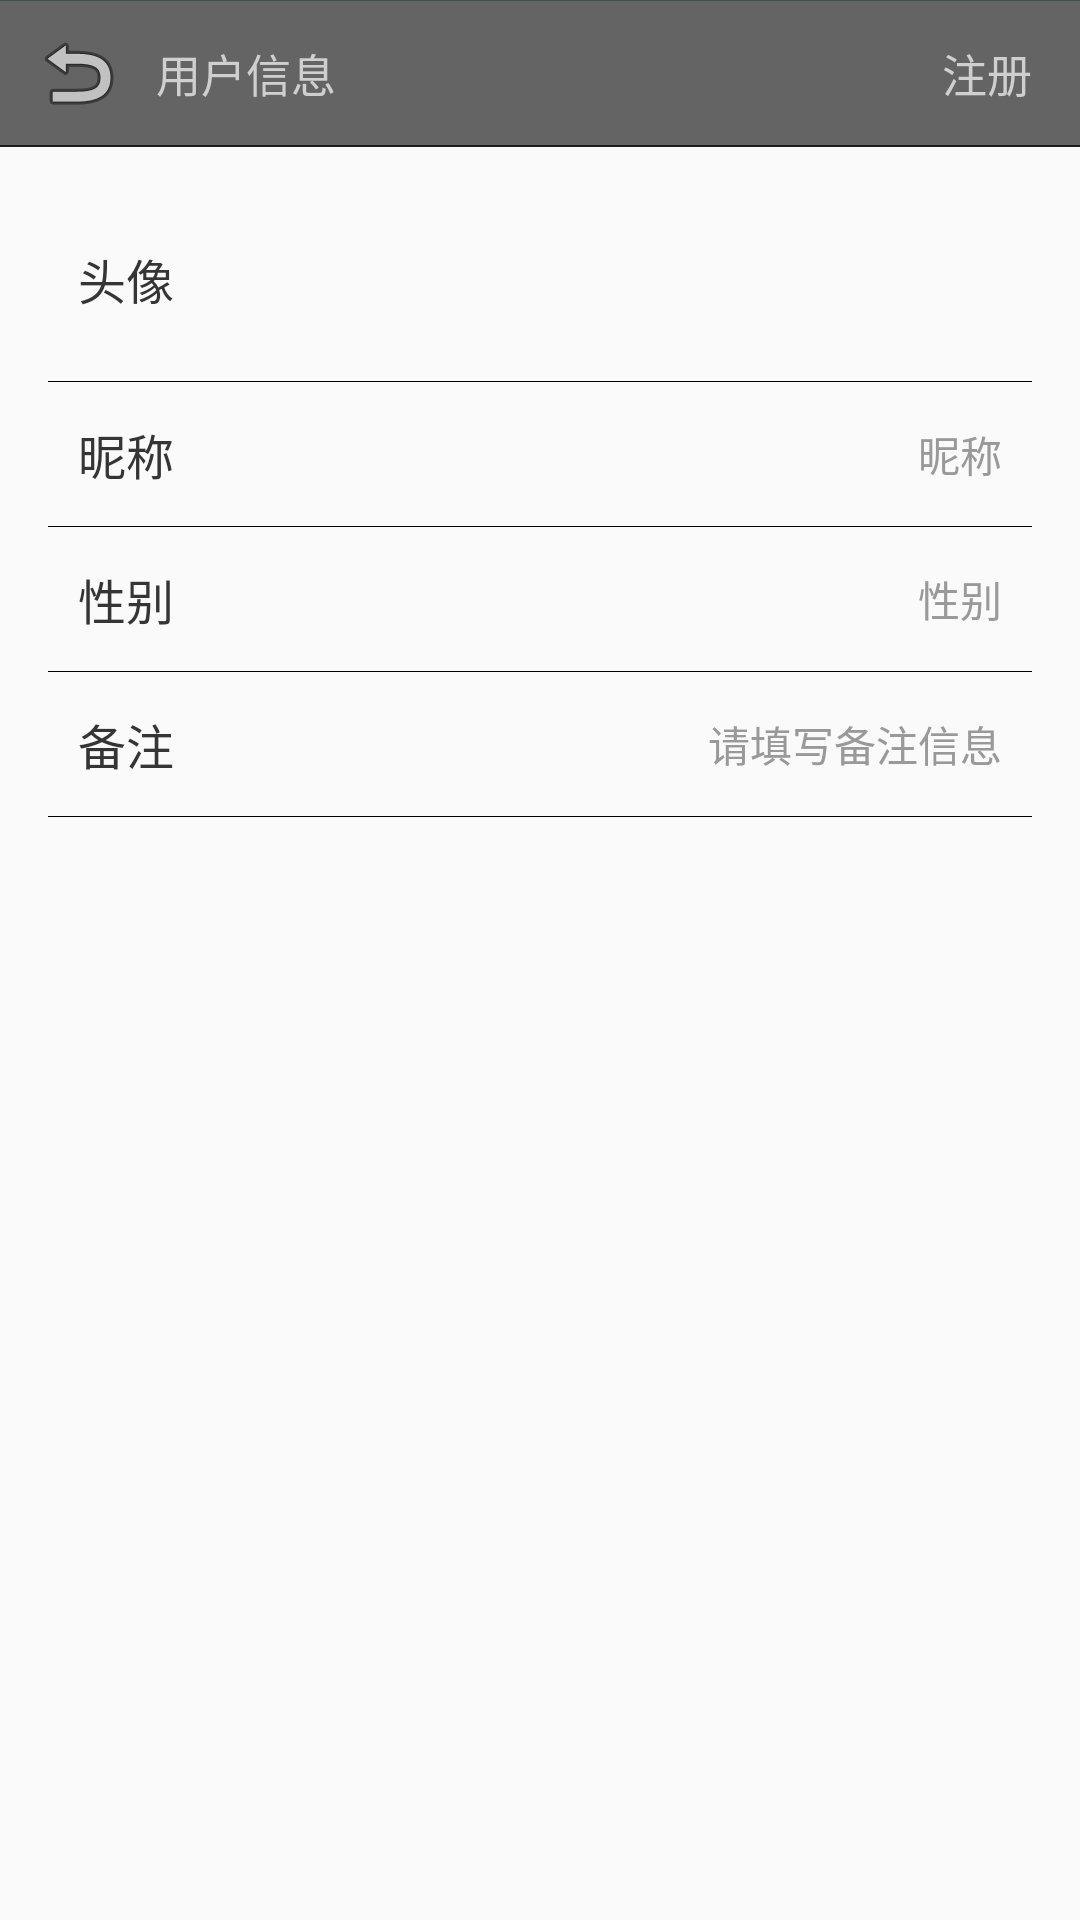

Icons on this 1080 × 1920 Android screen, each with its box as (x1, y1, x2, y2):
revert: (45, 43, 113, 105)
